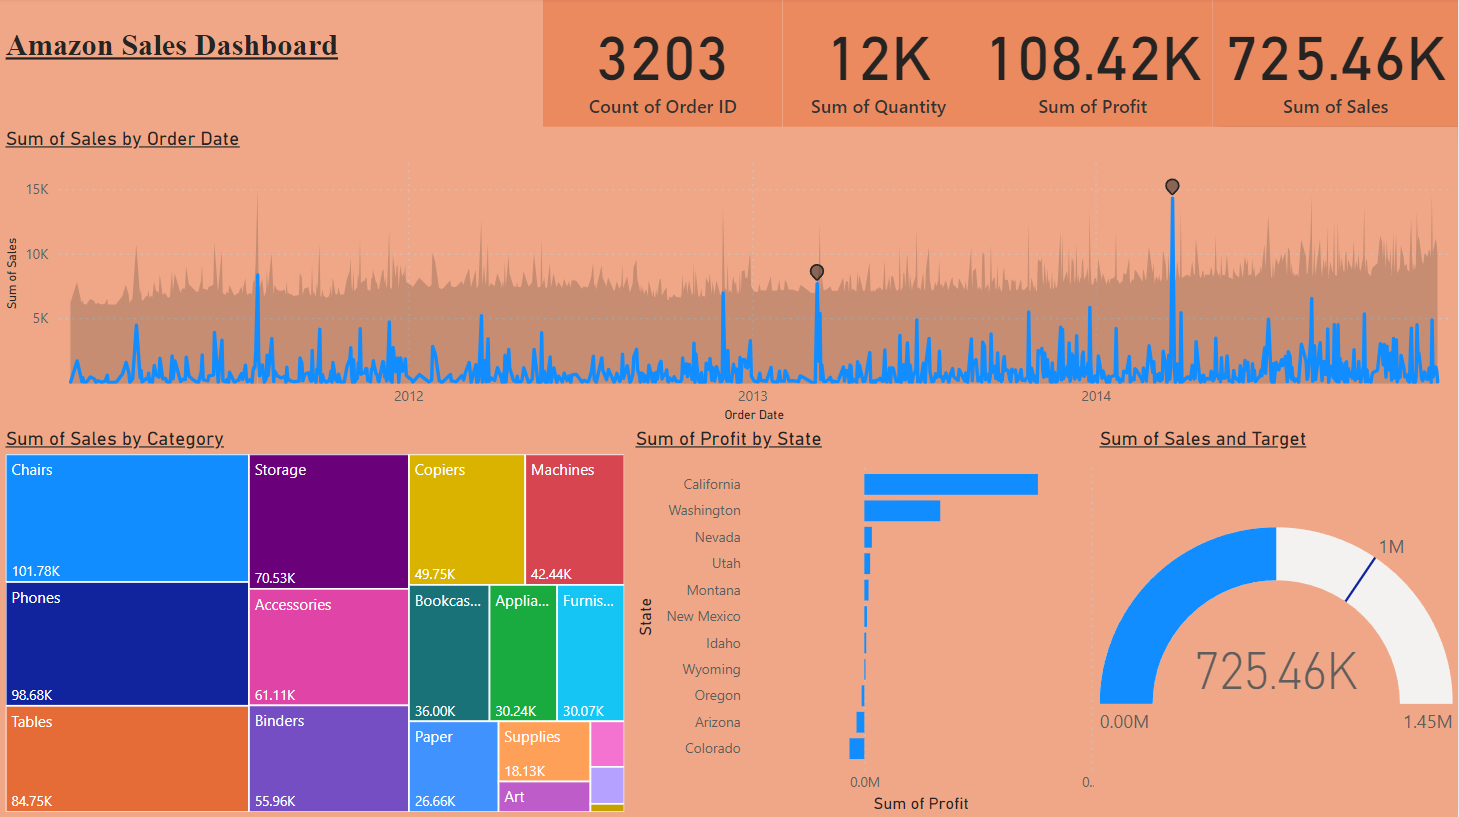

The dashboard page shown, as its layout file describes it:
{"tool":"powerbi","page":{"name":"Page 1","canvas":[1280,720],"ordinal":0},"visuals":[{"type":"card","fields":{"Values":["Sum(Walmart.Sales)"]},"box":[1064.9,0,215.5,113.5],"z":0},{"type":"card","fields":{"Values":["Sum(Walmart.Profit)"]},"box":[854.8,0,210.1,113.5],"z":1000},{"type":"card","fields":{"Values":["Sum(Walmart.Quantity)"]},"box":[687.2,0,167.6,113.5],"z":2000},{"type":"card","fields":{"Values":["CountNonNull(Walmart.Order ID)"]},"box":[477,0,210.1,113.5],"z":3000},{"type":"lineChart","fields":{"Category":["Walmart.Order Date"],"Y":["Sum(Walmart.Sales)"]},"box":[0,113.5,1280.4,263.3],"z":4000},{"type":"treemap","fields":{"Group":["Walmart.Category"],"Values":["Sum(Walmart.Sales)"]},"box":[0,376.8,553.3,343.2],"z":5000},{"type":"barChart","fields":{"Category":["Walmart.State"],"Y":["Sum(Walmart.Profit)"]},"box":[553.3,376.8,420.3,343.2],"z":6000},{"type":"gauge","fields":{"Y":["Sum(Walmart.Sales)"],"TargetValue":["Walmart.Target"]},"box":[960.3,376.8,320.1,343.2],"z":7000},{"type":"textbox","box":[0,21.3,324.5,79.8],"z":8000}]}

Visuals, with their boxes in screenshot pixels (x1, y1, x2, y2), scaled from the page's 1280x720 canvas onto the 1459x817 screenshot:
card - Sum(Walmart.Sales): 1214, 0, 1458, 129
card - Sum(Walmart.Profit): 974, 0, 1214, 129
card - Sum(Walmart.Quantity): 783, 0, 974, 129
card - CountNonNull(Walmart.Order ID): 544, 0, 783, 129
lineChart - Walmart.Order Date x Sum(Walmart.Sales): 0, 129, 1458, 428
treemap - Walmart.Category x Sum(Walmart.Sales): 0, 428, 631, 816
barChart - Walmart.State x Sum(Walmart.Profit): 631, 428, 1110, 816
gauge - Sum(Walmart.Sales) x Walmart.Target: 1095, 428, 1458, 816
textbox: 0, 24, 370, 115
